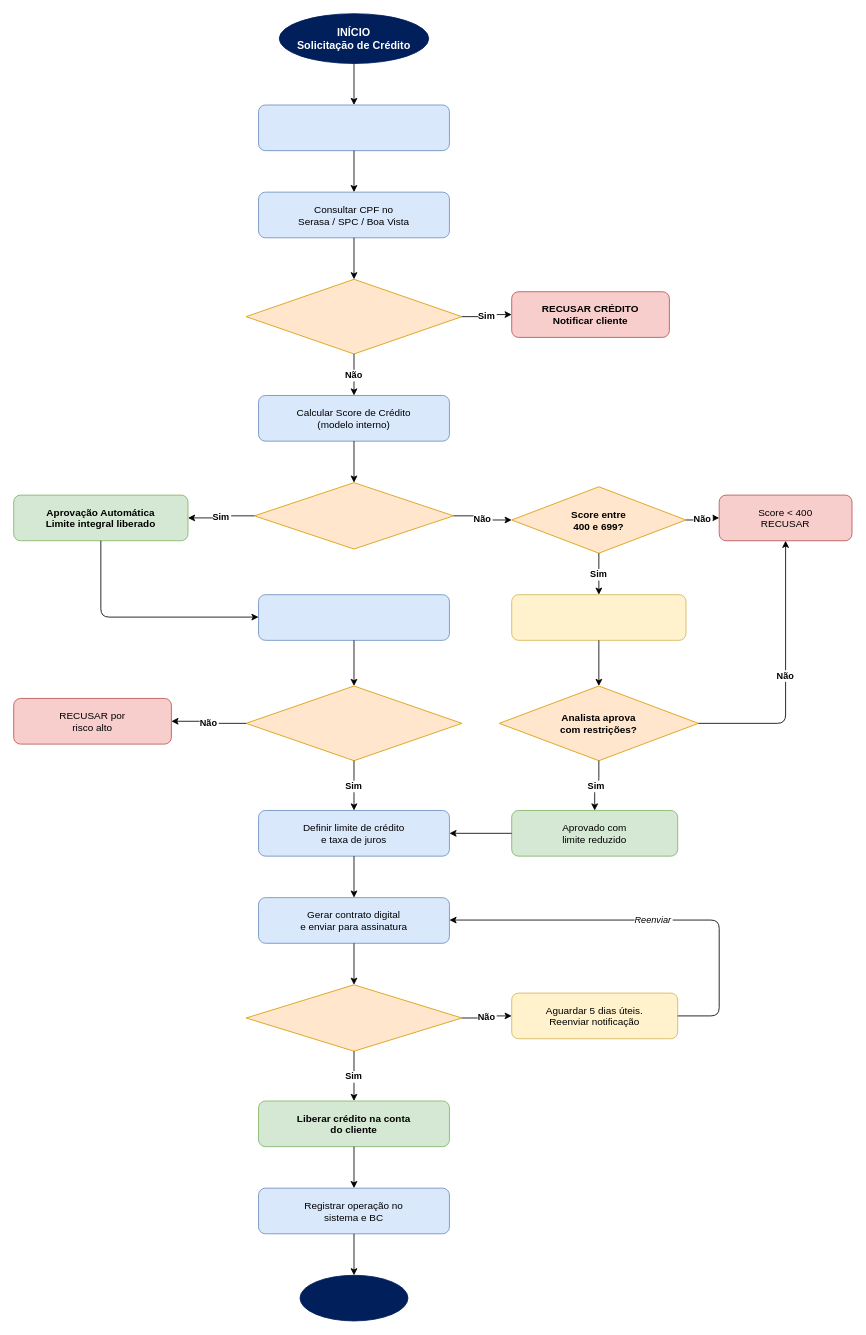
The diagram is 866 pixels wide and 1335 high, and some of its shapes have lost their labels. Each missing label, with the centre of its shape:
Análise Manual por Analista de Crédito: (598,617)
Cliente assinou o contrato?: (353,1017)
Comprometimento de renda ≤ 30%?: (353,723)
CPF possui restrição ativa?: (353,316)
FIM: (353,1297)
Receber dados do cliente (CPF, renda, histórico): (353,127)
Score ≥ 700?: (354,515)
Verificar capacidade de pagamento (renda x dívidas): (353,617)
